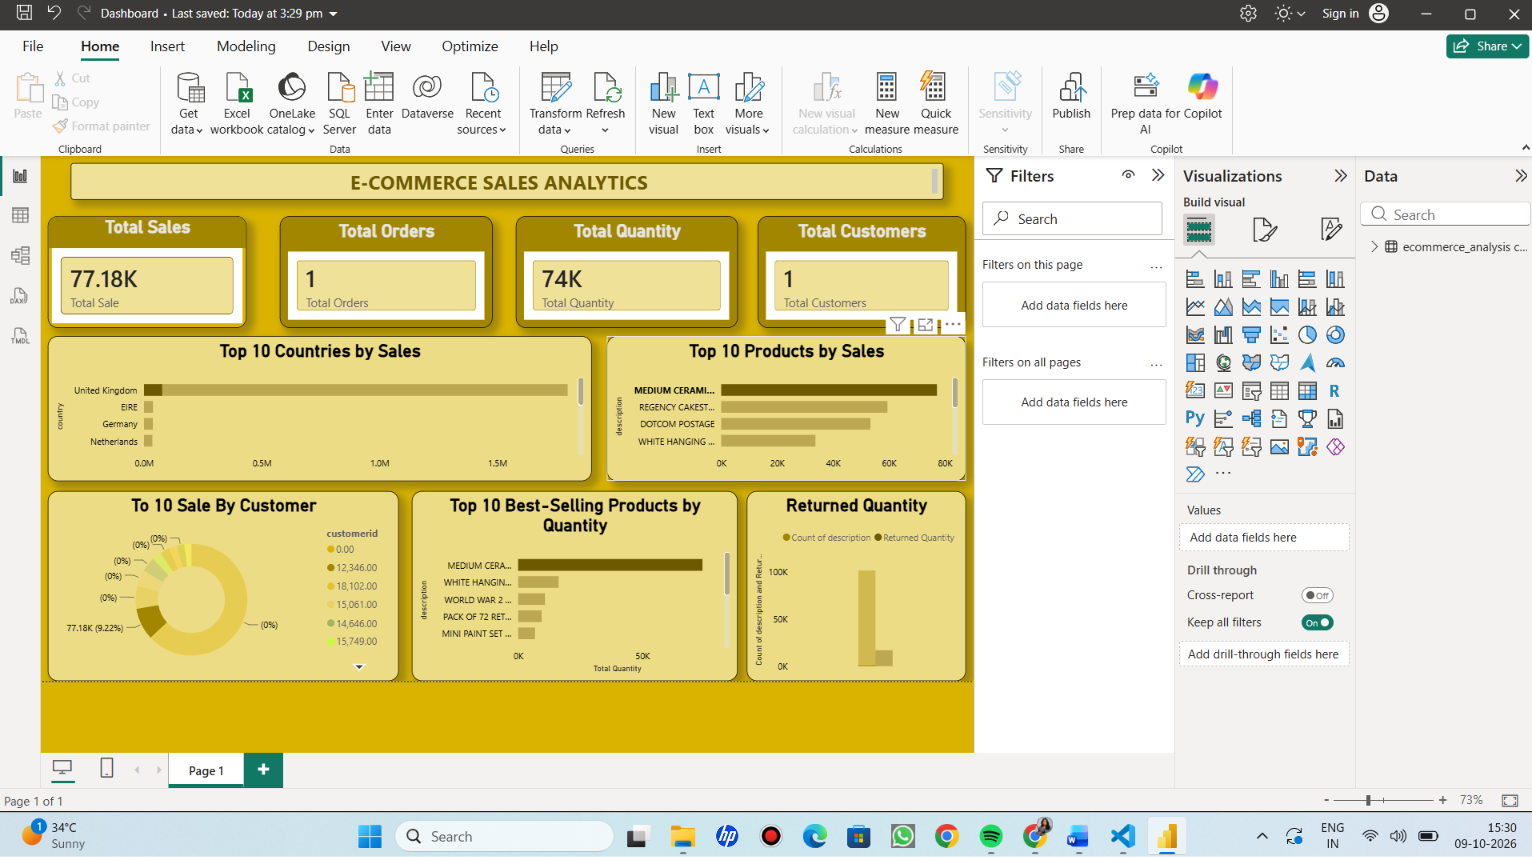

The page's visual inventory and layout, read from the dashboard file:
{"tool":"powerbi","page":{"name":"Page 1","canvas":[1280,720],"ordinal":0},"visuals":[{"type":"cardVisual","title":"Total Sales","fields":{"Data":["ecommerce_analysis cleaned_ecommerce_data.Total Sale"]},"box":[9.6,82.3,273.1,153.7],"z":0},{"type":"cardVisual","title":"Total Orders","fields":{"Data":["ecommerce_analysis cleaned_ecommerce_data.Total Orders"]},"box":[328,82.3,292.3,153.7],"z":1000},{"type":"cardVisual","title":"Total Quantity","fields":{"Data":["ecommerce_analysis cleaned_ecommerce_data.Total Quantity"]},"box":[651.8,82.3,304.6,153.7],"z":2000},{"type":"cardVisual","title":"Total Customers","fields":{"Data":["ecommerce_analysis cleaned_ecommerce_data.Total Customers"]},"box":[983.9,82.3,285.4,153.7],"z":3000},{"type":"clusteredBarChart","title":"Top 10 Countries by Sales","fields":{"Category":["ecommerce_analysis cleaned_ecommerce_data.country"],"Y":["ecommerce_analysis cleaned_ecommerce_data.Total Sale"]},"box":[9.6,247,746.5,199],"z":4000},{"type":"clusteredBarChart","title":"Top 10 Products by Sales","fields":{"Category":["ecommerce_analysis cleaned_ecommerce_data.description"],"Y":["ecommerce_analysis cleaned_ecommerce_data.Total Sale"]},"box":[776.7,247,492.6,199],"z":5000},{"type":"barChart","title":"Top 10 Best-Selling Products by Quantity","fields":{"Category":["ecommerce_analysis cleaned_ecommerce_data.description"],"Y":["ecommerce_analysis cleaned_ecommerce_data.Total Quantity"]},"box":[509.1,459.7,447.3,260.7],"z":6000},{"type":"donutChart","title":"To 10 Sale By Customer","fields":{"Category":["ecommerce_analysis cleaned_ecommerce_data.customerid"],"Y":["ecommerce_analysis cleaned_ecommerce_data.Total Sale"]},"box":[10,460,481.9,260.6],"z":7000},{"type":"clusteredColumnChart","title":"Returned Quantity","fields":{"Y":["CountNonNull(ecommerce_analysis cleaned_ecommerce_data.description)","ecommerce_analysis cleaned_ecommerce_data.Returned Quantity"]},"box":[968.8,459.7,300.5,260.7],"z":8000},{"type":"textbox","box":[41.2,9.6,1197.9,50.8],"z":9000}]}

Visuals, with their boxes on the page's 1280x720 design canvas (x1, y1, x2, y2). These are canvas units, not pixel positions in the 1532x857 screenshot, which may show the page scaled, cropped or inside an application window:
"Total Sales" cardVisual: box(10, 82, 283, 236)
"Total Orders" cardVisual: box(328, 82, 620, 236)
"Total Quantity" cardVisual: box(652, 82, 956, 236)
"Total Customers" cardVisual: box(984, 82, 1269, 236)
"Top 10 Countries by Sales" clusteredBarChart: box(10, 247, 756, 446)
"Top 10 Products by Sales" clusteredBarChart: box(777, 247, 1269, 446)
"Top 10 Best-Selling Products by Quantity" barChart: box(509, 460, 956, 720)
"To 10 Sale By Customer" donutChart: box(10, 460, 492, 721)
"Returned Quantity" clusteredColumnChart: box(969, 460, 1269, 720)
textbox: box(41, 10, 1239, 60)
